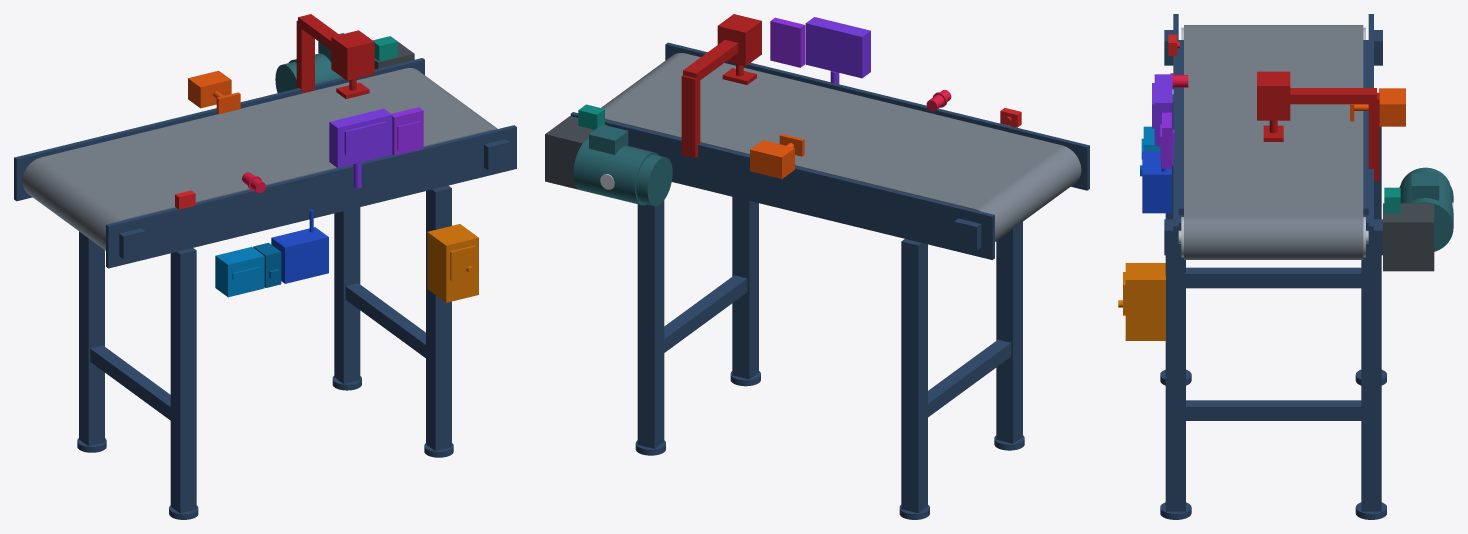
Rendered from CONV-BELT-1M_assembly.glb.
3 renders of one model, left to right at view 1: azimuth 30°, elevation 25°; view 2: azimuth 150°, elevation 25°; view 3: azimuth 270°, elevation 25°, orthographic. The views are drawn at different scales.
Visible parts, largest first — view 1: Belt, Legs, Frame, LABEL_Body, VFD_Body, DISP_Body, PLC_MASTER_Body, PLC_BASE_Body, PUSH_Body, SWIPE_Body, Motor, PLC_EXP_Body; view 2: Belt, Legs, Frame, Motor, LABEL_Body, DISP_Body, Gearbox, PUSH_Body, SWIPE_Body; view 3: Belt, Legs, Frame, LABEL_Body, Gearbox, VFD_Body, Motor, PLC_MASTER_Body, PUSH_Body, DISP_Body, SWIPE_Body, TEMP_Body.
Boxes of the visible parts, bbox=[...] form: Belt: bbox=[22, 68, 497, 250]; Legs: bbox=[77, 185, 453, 519]; Frame: bbox=[14, 58, 516, 268]; LABEL_Body: bbox=[296, 14, 374, 98]; VFD_Body: bbox=[427, 224, 478, 302]; DISP_Body: bbox=[329, 108, 392, 188]; PLC_MASTER_Body: bbox=[271, 209, 328, 283]; PLC_BASE_Body: bbox=[215, 247, 264, 297]; PUSH_Body: bbox=[188, 70, 240, 114]; SWIPE_Body: bbox=[392, 107, 423, 155]; Motor: bbox=[275, 33, 343, 92]; PLC_EXP_Body: bbox=[253, 242, 281, 287]; Belt: bbox=[601, 53, 1081, 241]; Legs: bbox=[635, 197, 1024, 519]; Frame: bbox=[570, 42, 1089, 259]; Motor: bbox=[573, 124, 672, 205]; LABEL_Body: bbox=[681, 14, 761, 157]; DISP_Body: bbox=[805, 17, 870, 83]; Gearbox: bbox=[545, 116, 607, 189]; PUSH_Body: bbox=[750, 134, 804, 178]; SWIPE_Body: bbox=[770, 17, 805, 67]; Belt: bbox=[1184, 25, 1363, 259]; Legs: bbox=[1160, 94, 1386, 519]; Frame: bbox=[1164, 14, 1382, 270]; LABEL_Body: bbox=[1257, 71, 1379, 180]; Gearbox: bbox=[1383, 203, 1434, 271]; VFD_Body: bbox=[1118, 263, 1165, 340]; Motor: bbox=[1399, 167, 1453, 251]; PLC_MASTER_Body: bbox=[1142, 151, 1171, 213]; PUSH_Body: bbox=[1350, 88, 1405, 126]; DISP_Body: bbox=[1152, 74, 1174, 165]; SWIPE_Body: bbox=[1160, 112, 1171, 168]; TEMP_Body: bbox=[1384, 187, 1400, 213].
Bounding box in the file's own units: 1.12 × 1.02 × 0.747.
